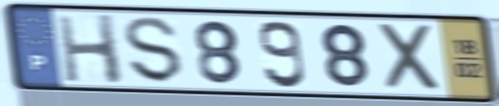8: (319, 21, 373, 91), (192, 17, 245, 87)
9: (257, 19, 308, 89)
H: (53, 12, 127, 87)
S: (121, 15, 186, 86)
X: (374, 21, 446, 95)
